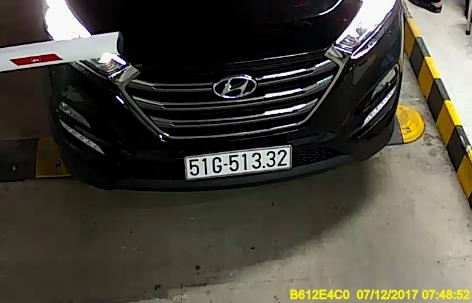plate: (183, 147, 291, 178)
